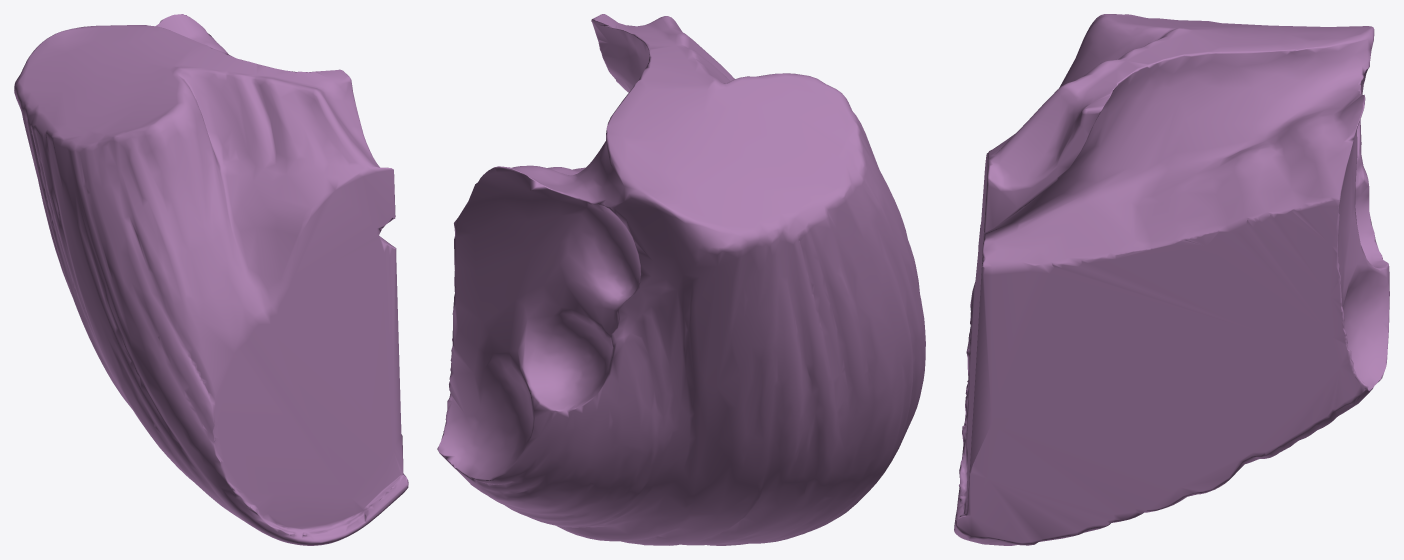
The picture shows the model from 3 angles, left to right: view 1: azimuth 30°, elevation 25°; view 2: azimuth 150°, elevation 25°; view 3: azimuth 270°, elevation 25°; orthographic projection. The views are drawn at different scales.
Parts seen in each view (by area): view 1: 右侧脑桥; view 2: 右侧脑桥; view 3: 右侧脑桥.
Boxes of the visible parts, <box> form: 右侧脑桥: <box>14,14,408,545</box>; 右侧脑桥: <box>437,14,925,545</box>; 右侧脑桥: <box>954,14,1389,545</box>.
Size of the model in its own units: 0.0303 by 0.0492 by 0.0409.
